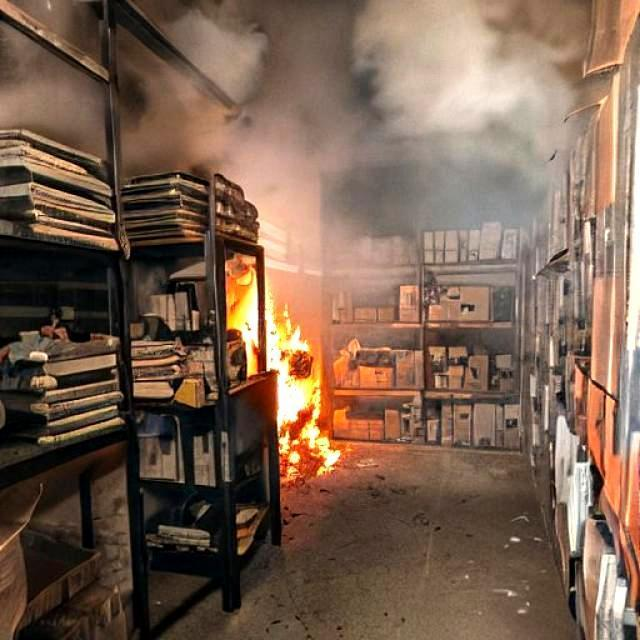Fire: (236, 272, 339, 481)
Smoke: (175, 0, 602, 266)
